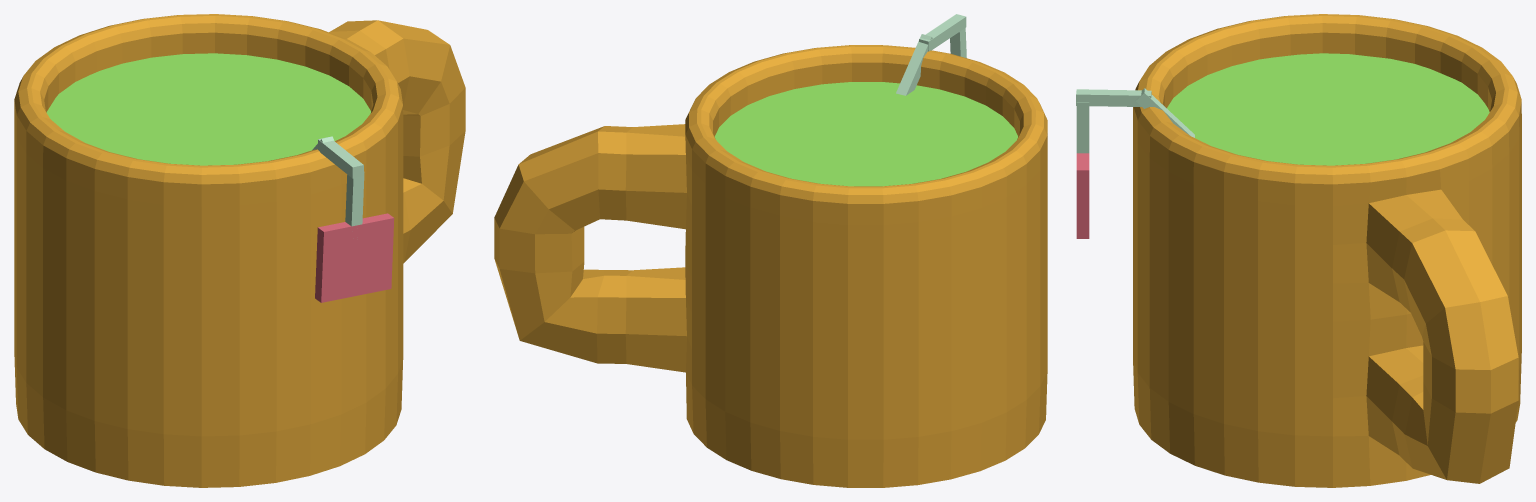
Rendered from te_verde.fbx.
3 renders of one model, left to right at view 1: azimuth 30°, elevation 25°; view 2: azimuth 150°, elevation 25°; view 3: azimuth 270°, elevation 25°, orthographic. The views are drawn at different scales.
Parts seen in each view (by area): view 1: te_verde; view 2: te_verde; view 3: te_verde.
Boxes of the visible parts, box(x1,y1,x2,y2) form: te_verde: box(14, 14, 465, 487); te_verde: box(494, 14, 1047, 487); te_verde: box(1076, 14, 1521, 487).
Bounding box in the file's own units: 9017 × 5828 × 7112.
